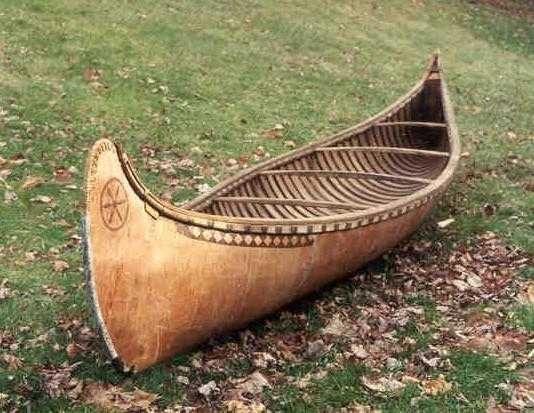kayak: (80, 53, 462, 373)
